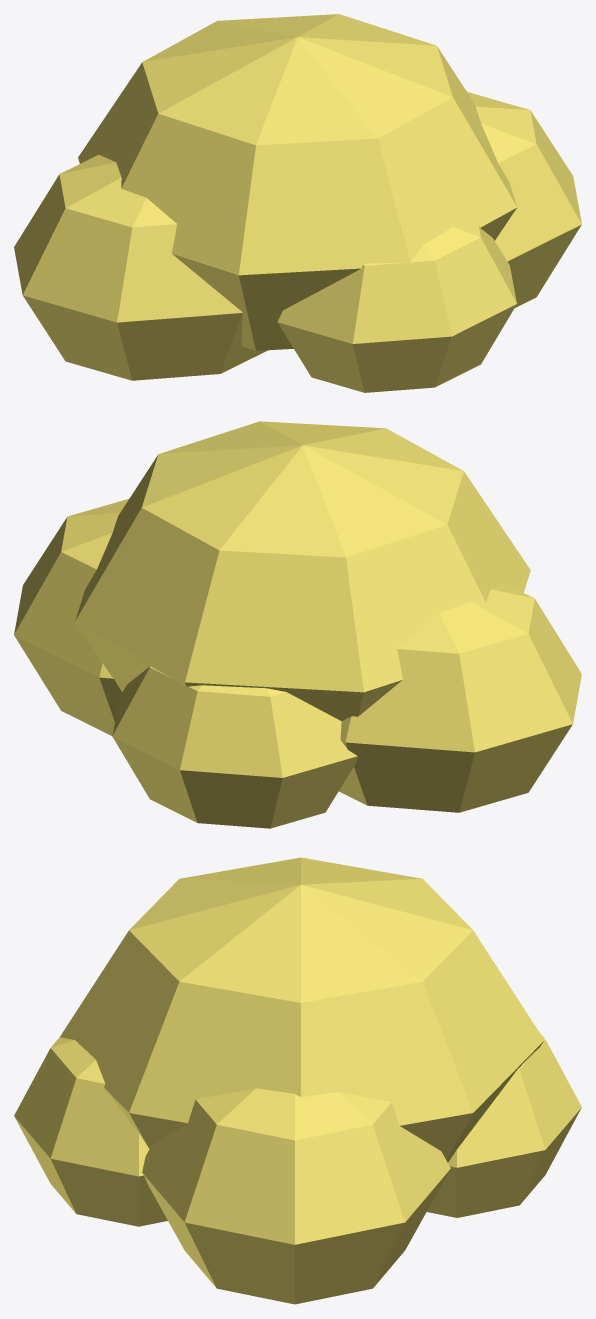
The model's file is t7_tree_leaves.glb.
3 views of the same model, one above another, from view 1: azimuth 30°, elevation 25°; view 2: azimuth 150°, elevation 25°; view 3: azimuth 270°, elevation 25° (orthographic). The views are drawn at different scales.
Parts seen in each view (by area): view 1: Leaf_Center, Leaf_Left, Leaf_Back, Leaf_Right; view 2: Leaf_Center, Leaf_Left, Leaf_Front, Leaf_Right; view 3: Leaf_Center, Leaf_Right, Leaf_Back, Leaf_Front.
Boxes of the visible parts, x1,y1,x2,y2 form: Leaf_Center: [78, 14, 517, 350]; Leaf_Left: [14, 154, 267, 380]; Leaf_Back: [277, 225, 516, 392]; Leaf_Right: [467, 92, 581, 307]; Leaf_Center: [75, 421, 530, 721]; Leaf_Left: [339, 583, 581, 812]; Leaf_Front: [112, 666, 357, 828]; Leaf_Right: [14, 499, 128, 735]; Leaf_Center: [60, 857, 544, 1162]; Leaf_Right: [142, 1088, 450, 1304]; Leaf_Back: [14, 1037, 167, 1226]; Leaf_Front: [427, 1033, 581, 1217].
Bounding box in the file's own units: 2.14 × 1.18 × 1.82.
